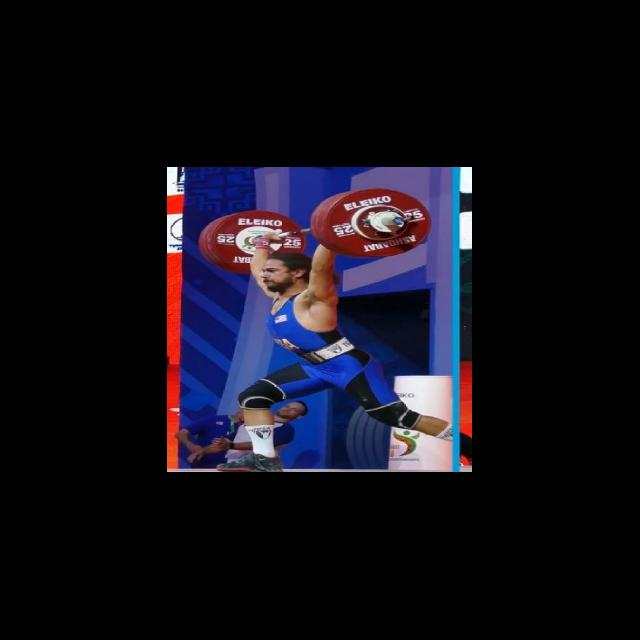barbell: (302, 185, 443, 260)
